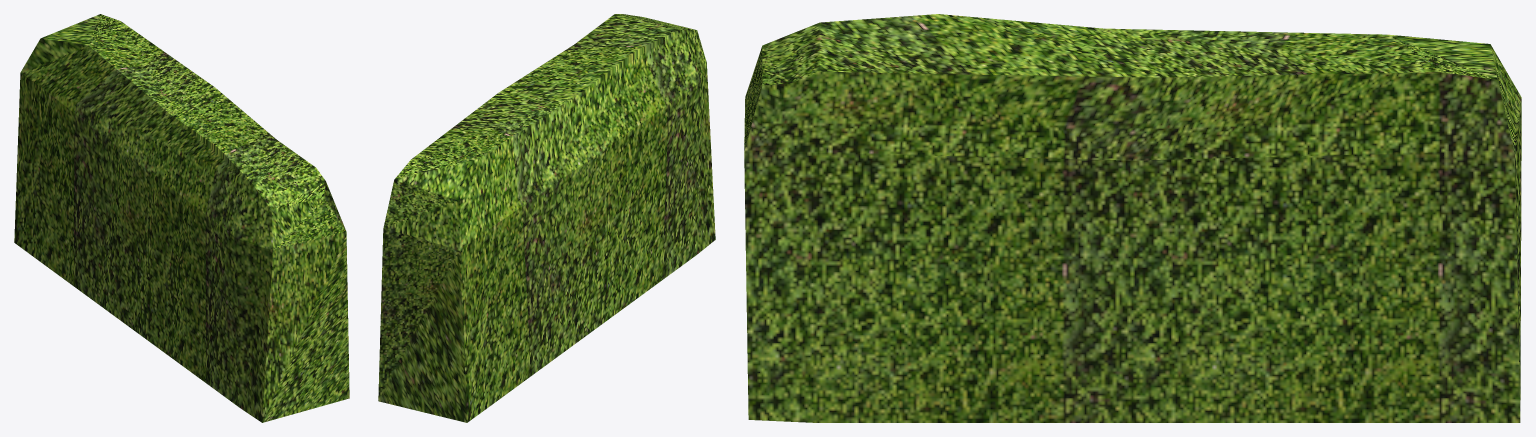
The model's file is hedge.gltf.
3 renders of one model, left to right at view 1: azimuth 30°, elevation 25°; view 2: azimuth 150°, elevation 25°; view 3: azimuth 270°, elevation 25°, orthographic. The views are drawn at different scales.
Parts seen in each view (by area): view 1: Cube.001; view 2: Cube.001; view 3: Cube.001.
Part boxes in pixels (x1,y1,x2,y2): Cube.001: (14, 14, 349, 422); Cube.001: (378, 14, 715, 422); Cube.001: (744, 14, 1521, 422).
Size of the model in its own units: 0.8835 by 1.98 by 3.91.
1 material, 1 textured.
